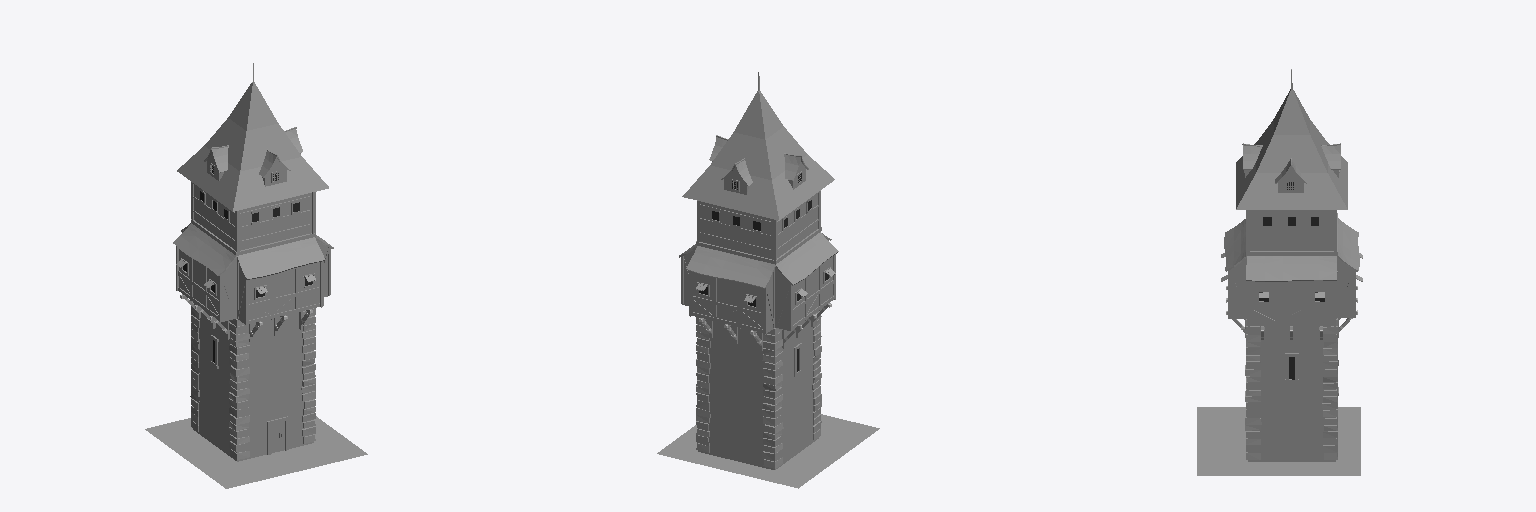
File: tower.obj
The picture shows the model from 3 angles: view 1: azimuth 30°, elevation 25°; view 2: azimuth 150°, elevation 25°; view 3: azimuth 270°, elevation 25°; orthographic projection.
Parts seen in each view (by area): view 1: Cube, Cube.001, Plane.014_Plane.003, Cube.293_Cube.018, Cube.276_Cube.004, Cube.277_Cube.003, Cube.291_Cube.018, Cube.141_Cube.004, Cube.140_Cube.003, Cube.294_Cube.018; view 2: Cube, Cube.001, Plane.014_Plane.003, Cube.294_Cube.018, Cube.138_Cube.004, Cube.139_Cube.003, Cube.292_Cube.018, Cube.141_Cube.004, Cube.140_Cube.003, Cube.293_Cube.018; view 3: Cube, Cube.001, Plane.014_Plane.003, Cube.003_Cube.004, Cube.002_Cube.003, Cube.291_Cube.018, Cube.292_Cube.018, Cube.138_Cube.004, Cube.276_Cube.004, Cube.277_Cube.003, Cube.139_Cube.003.
Boxes of the visible parts, box(x1,y1,x2,y2) form: Cube: box(193, 185, 313, 461); Cube.001: box(177, 82, 328, 211); Plane.014_Plane.003: box(145, 416, 367, 488); Cube.293_Cube.018: box(229, 319, 249, 459); Cube.276_Cube.004: box(237, 237, 324, 279); Cube.277_Cube.003: box(239, 263, 319, 322); Cube.291_Cube.018: box(301, 308, 315, 443); Cube.141_Cube.004: box(173, 223, 236, 275); Cube.140_Cube.003: box(179, 249, 233, 320); Cube.294_Cube.018: box(190, 302, 199, 431); Cube: box(698, 194, 818, 469); Cube.001: box(682, 91, 834, 220); Plane.014_Plane.003: box(657, 414, 879, 488); Cube.294_Cube.018: box(762, 328, 783, 468); Cube.138_Cube.004: box(686, 246, 775, 288); Cube.139_Cube.003: box(692, 272, 772, 331); Cube.292_Cube.018: box(696, 317, 710, 452); Cube.141_Cube.004: box(776, 232, 838, 285); Cube.140_Cube.003: box(778, 256, 832, 329); Cube.293_Cube.018: box(812, 309, 821, 439); Cube: box(1248, 210, 1335, 461); Cube.001: box(1236, 89, 1347, 209); Plane.014_Plane.003: box(1197, 407, 1360, 475); Cube.003_Cube.004: box(1246, 256, 1337, 281); Cube.002_Cube.003: box(1251, 281, 1332, 321); Cube.291_Cube.018: box(1245, 319, 1261, 459); Cube.292_Cube.018: box(1322, 318, 1337, 459); Cube.138_Cube.004: box(1337, 218, 1359, 271); Cube.276_Cube.004: box(1224, 219, 1246, 271); Cube.277_Cube.003: box(1231, 260, 1243, 317); Cube.139_Cube.003: box(1340, 260, 1352, 316).
Bounding box in the file's own units: 3.71 × 9.39 × 3.75.